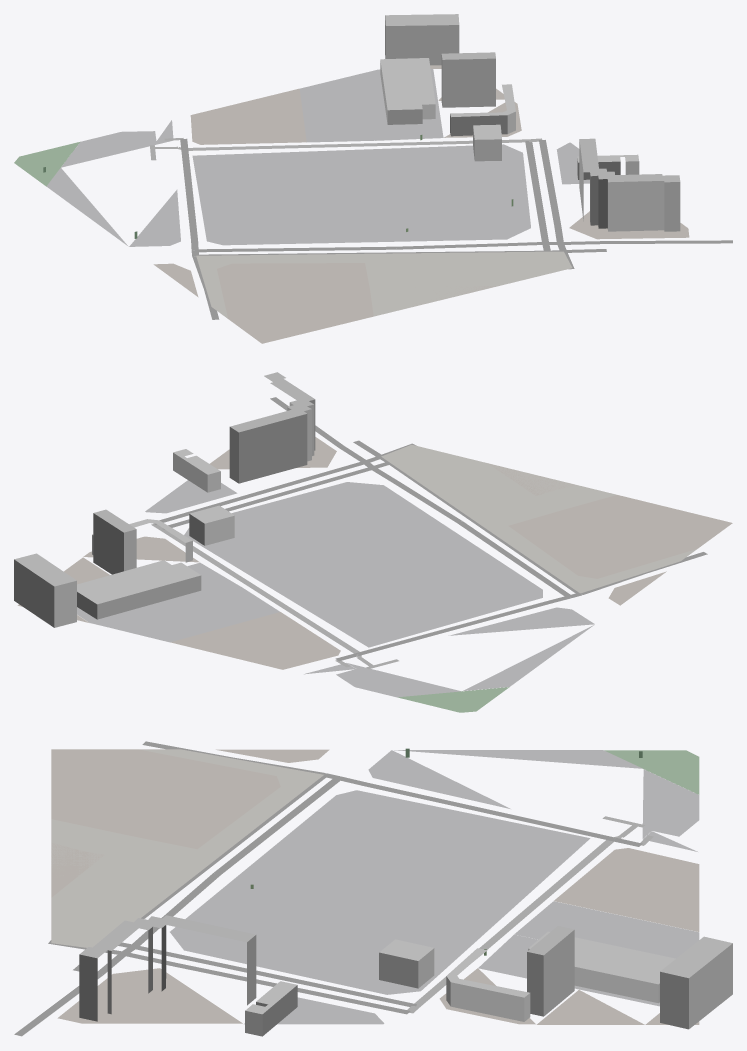
The picture shows the model from 3 angles, top to bottom: view 1: azimuth 30°, elevation 25°; view 2: azimuth 150°, elevation 25°; view 3: azimuth 270°, elevation 25°; orthographic projection. The views are drawn at different scales.
Bounding box in the file's own units: 538 × 55.13 × 555.
